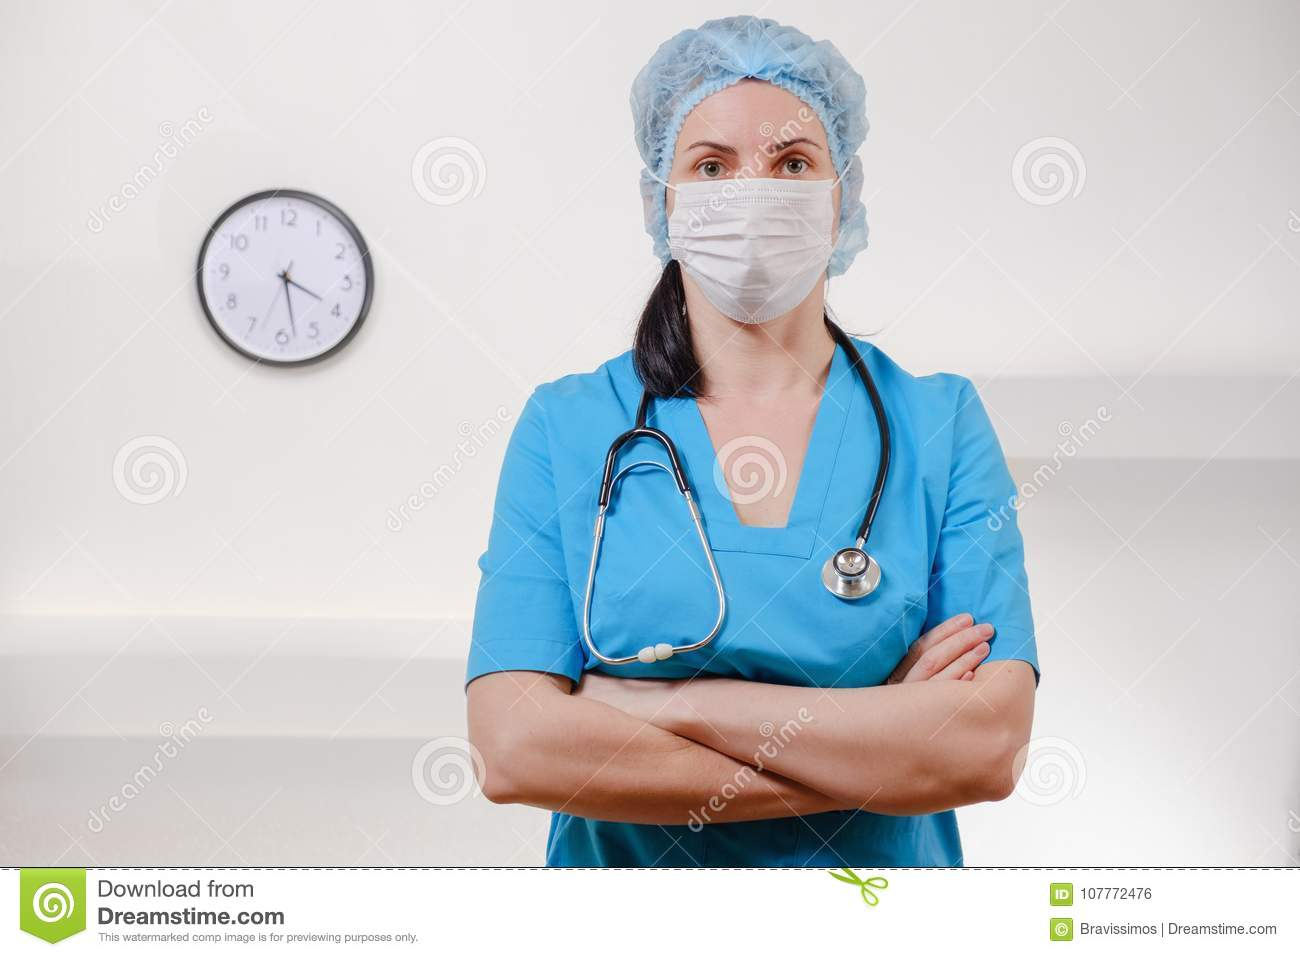mask: (679, 182, 831, 320)
